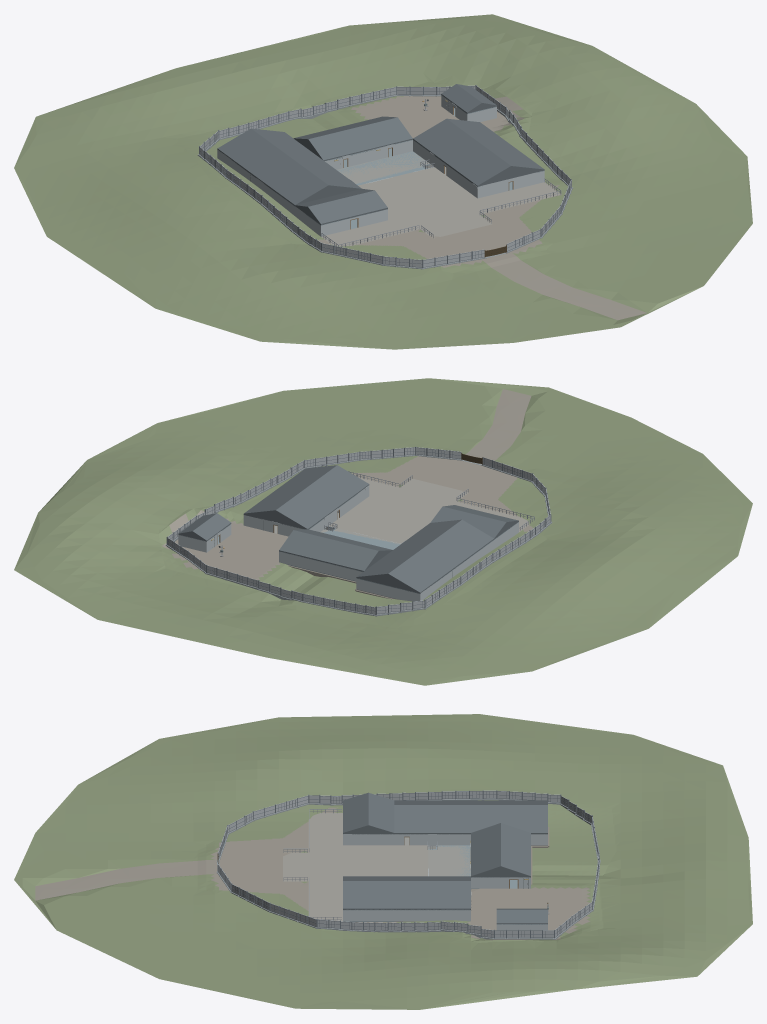
Rendered from station-with-furnishings.glb.
The picture shows the model from 3 angles, top to bottom: view 1: azimuth 30°, elevation 25°; view 2: azimuth 150°, elevation 25°; view 3: azimuth 270°, elevation 25°; orthographic projection. The views are drawn at different scales.
Visible parts, largest first — view 1: Northwatch joined valley and service lane, Saved editor geographic earthworks WLD-08.001, WLD-08 compound service forecourt structural surface region0, WLD-08 raised courtyard terrace structural surface region0, dormitory-and-mess roof west, radio-records roof south, laboratory roof west, generator-building roof west, Northwatch braced post line, stores roof south, dormitory-and-mess roof east, WLD-08 main tunnel roof with rectangular wells region0 (+5 smaller); view 2: Northwatch joined valley and service lane, Saved editor geographic earthworks WLD-08.001, WLD-08 raised courtyard terrace structural surface region0, dormitory-and-mess roof west, radio-records roof north, WLD-08 compound service forecourt structural surface region0, generator-building roof west, laboratory roof west, Northwatch braced post line, dormitory-and-mess roof east, stores roof north, generator-building roof east (+4 smaller); view 3: Northwatch joined valley and service lane, Saved editor geographic earthworks WLD-08.001, dormitory-and-mess roof east, WLD-08 compound service forecourt structural surface region0, WLD-08 raised courtyard terrace structural surface region0, laboratory roof east, generator-building roof east, radio-records roof north, radio-records roof south, Northwatch braced post line, WLD-08 main tunnel roof with rectangular wells region0, stores roof north (+8 smaller).
Part boxes in pixels (x1,y1,x2,y2): Northwatch joined valley and service lane: (14, 14, 752, 349); Saved editor geographic earthworks WLD-08.001: (178, 82, 563, 276); WLD-08 compound service forecourt structural surface region0: (321, 182, 561, 246); WLD-08 raised courtyard terrace structural surface region0: (358, 167, 477, 220); dormitory-and-mess roof west: (413, 119, 510, 186); radio-records roof south: (308, 117, 412, 160); laboratory roof west: (256, 157, 328, 205); generator-building roof west: (217, 128, 289, 176); Northwatch braced post line: (197, 85, 573, 269); stores roof south: (308, 190, 387, 224); dormitory-and-mess roof east: (447, 118, 544, 170); WLD-08 main tunnel roof with rectangular wells region0: (338, 151, 429, 183); Northwatch joined valley and service lane: (14, 378, 752, 685); Saved editor geographic earthworks WLD-08.001: (159, 446, 546, 628); WLD-08 raised courtyard terrace structural surface region0: (329, 496, 437, 543); dormitory-and-mess roof west: (275, 465, 369, 529); radio-records roof north: (279, 530, 378, 571); WLD-08 compound service forecourt structural surface region0: (359, 477, 529, 531); generator-building roof west: (388, 547, 457, 592); laboratory roof west: (425, 519, 493, 565); Northwatch braced post line: (165, 446, 552, 616); dormitory-and-mess roof east: (244, 465, 336, 514); stores roof north: (430, 506, 506, 538); generator-building roof east: (356, 546, 424, 577); Northwatch joined valley and service lane: (14, 714, 752, 1009); Saved editor geographic earthworks WLD-08.001: (197, 800, 616, 942); dormitory-and-mess roof east: (343, 881, 470, 909); WLD-08 compound service forecourt structural surface region0: (308, 813, 342, 921); WLD-08 raised courtyard terrace structural surface region0: (343, 845, 428, 876); laboratory roof east: (394, 805, 470, 833); generator-building roof east: (471, 805, 547, 833); radio-records roof north: (501, 823, 530, 876); radio-records roof south: (471, 823, 500, 876); Northwatch braced post line: (219, 790, 600, 939); WLD-08 main tunnel roof with rectangular wells region0: (428, 845, 470, 876); stores roof north: (368, 793, 394, 833).
Bounding box in the file's own units: 166 × 9.04 × 173.
Materials: 145 (111 with a texture image).
